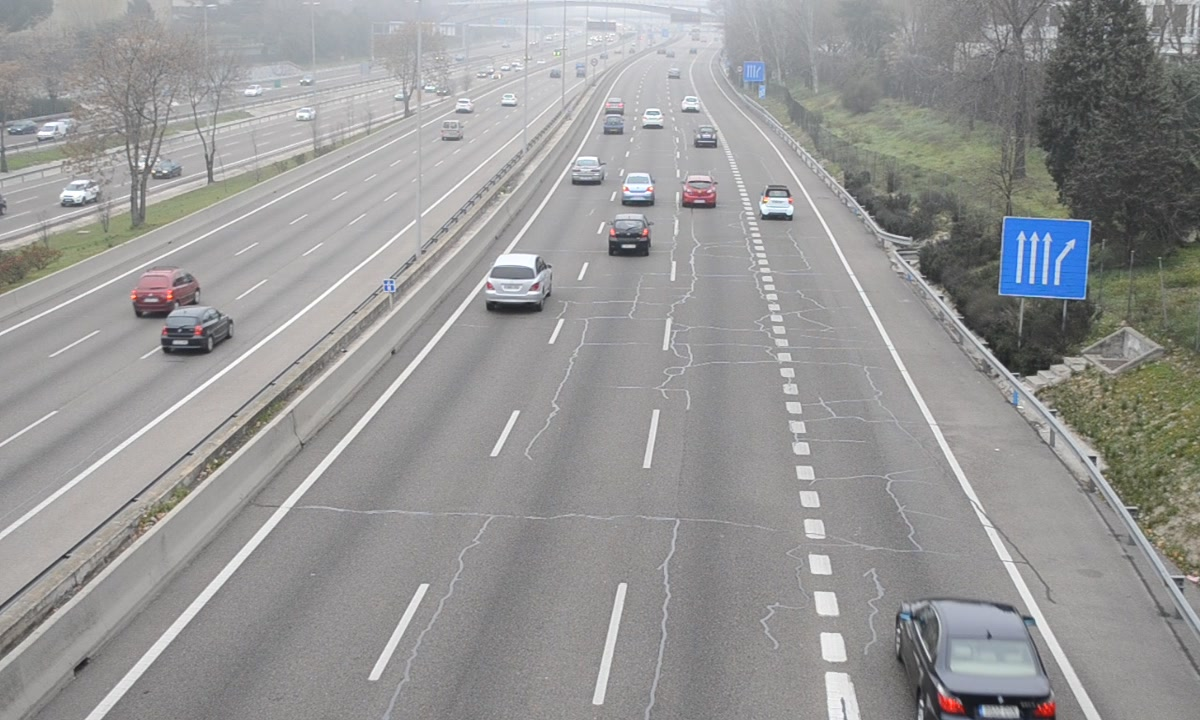car: (895, 600, 1059, 720), (485, 251, 553, 308), (608, 213, 654, 257), (761, 184, 795, 221), (683, 175, 718, 209), (622, 172, 656, 207), (571, 156, 606, 187), (693, 125, 720, 149), (601, 115, 626, 136), (639, 108, 665, 128)
